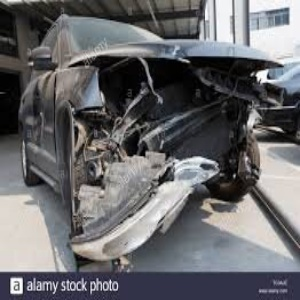bumper: (76, 67, 246, 258)
